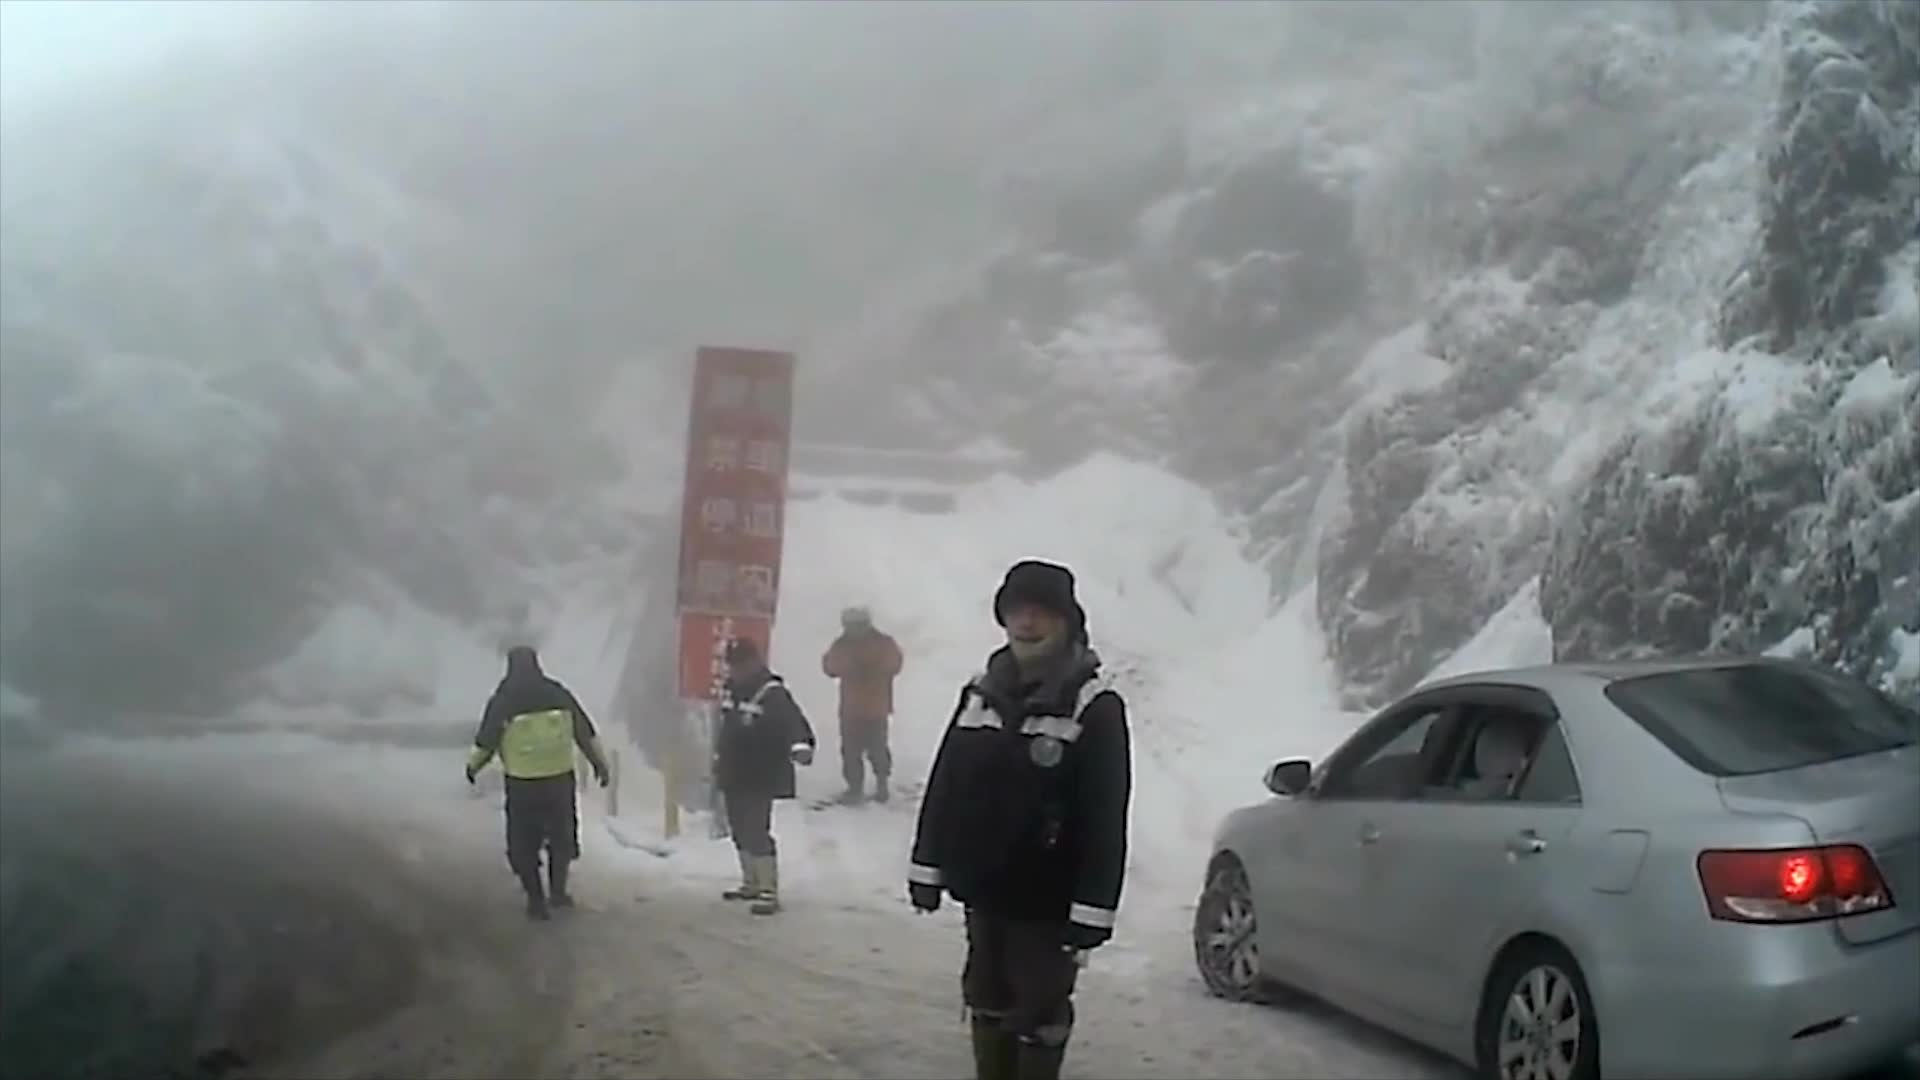pedestrian: (903, 561, 1132, 1080), (462, 652, 611, 924), (711, 641, 818, 913), (826, 609, 909, 807)
vehicle: (1191, 657, 1920, 1080)
